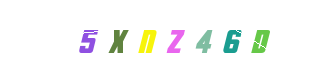4: (152, 0, 232, 80)
5: (48, 0, 128, 80)
6: (166, 0, 246, 80)
D: (192, 0, 272, 80)
N: (122, 0, 202, 80)
X: (107, 0, 187, 80)
Z: (126, 0, 206, 80)
